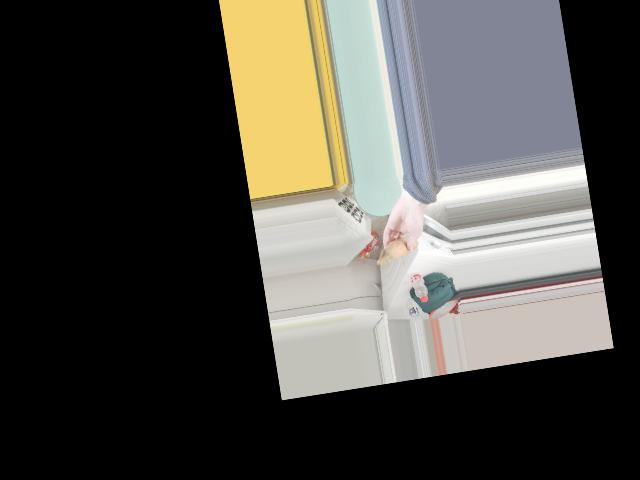sweet_potato: (385, 237, 415, 260)
